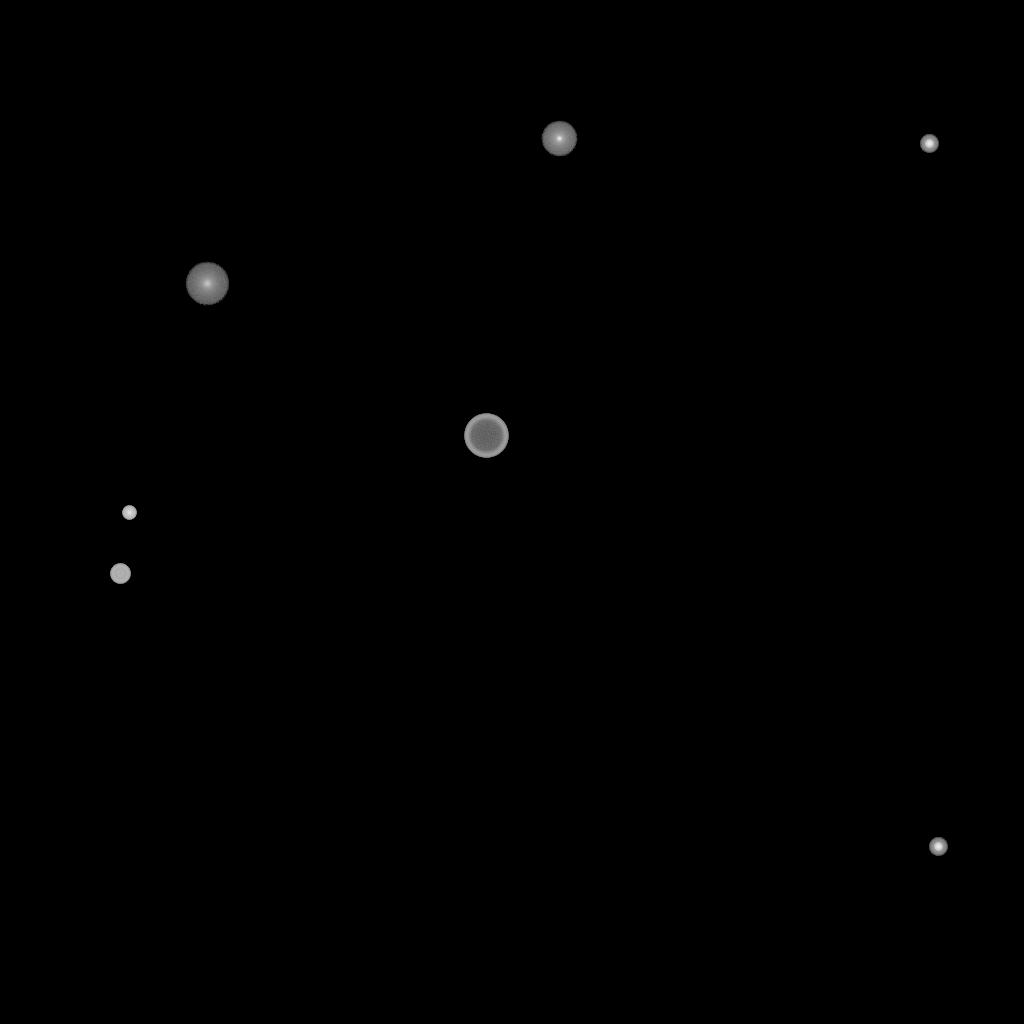depth:-20: (929, 838, 947, 856), (920, 135, 938, 153)
depth:-30: (122, 506, 136, 520)
depth:-40: (110, 564, 130, 584)
depth:-70: (464, 414, 508, 458)
depth:0: (541, 121, 577, 157)
depth:10: (185, 262, 229, 306)
